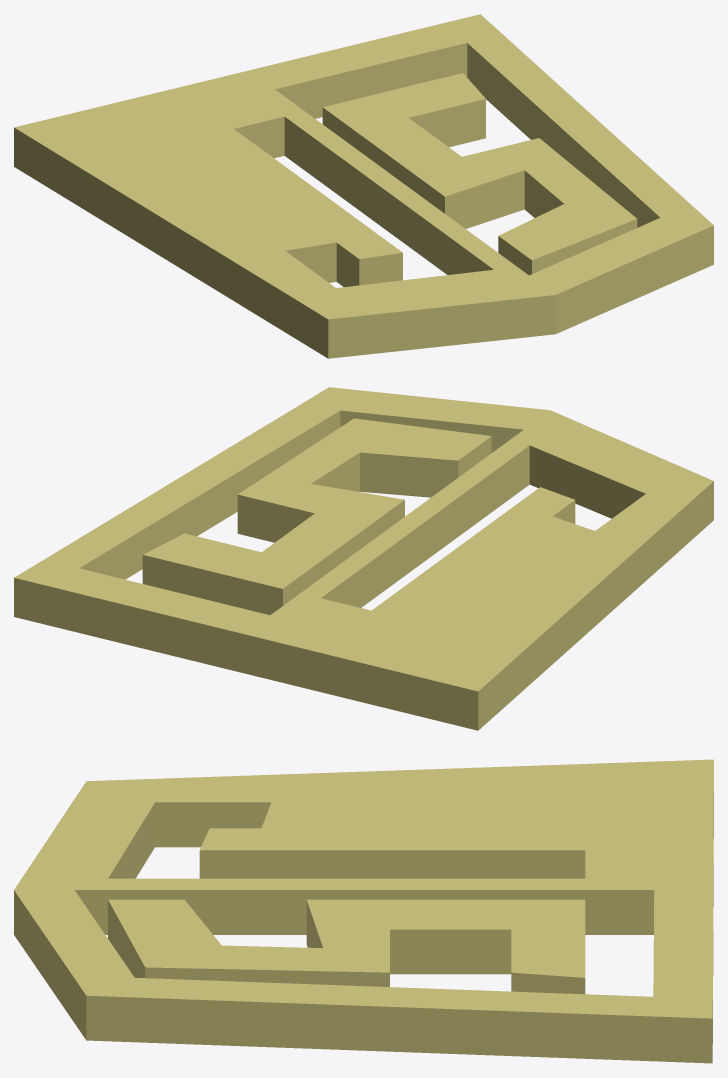
3 views of the same model, one above another, from view 1: azimuth 30°, elevation 25°; view 2: azimuth 150°, elevation 25°; view 3: azimuth 270°, elevation 25° (orthographic). The views are drawn at different scales.
Visible parts, largest first — view 1: Mesh_Mesh_head_geo.001_lambert2SG.001; view 2: Mesh_Mesh_head_geo.001_lambert2SG.001; view 3: Mesh_Mesh_head_geo.001_lambert2SG.001.
Boxes of the visible parts, x1,y1,x2,y2 form: Mesh_Mesh_head_geo.001_lambert2SG.001: [14, 14, 713, 358]; Mesh_Mesh_head_geo.001_lambert2SG.001: [14, 387, 713, 730]; Mesh_Mesh_head_geo.001_lambert2SG.001: [14, 759, 713, 1063].
Size of the model in its own units: 124 by 10 by 142.
